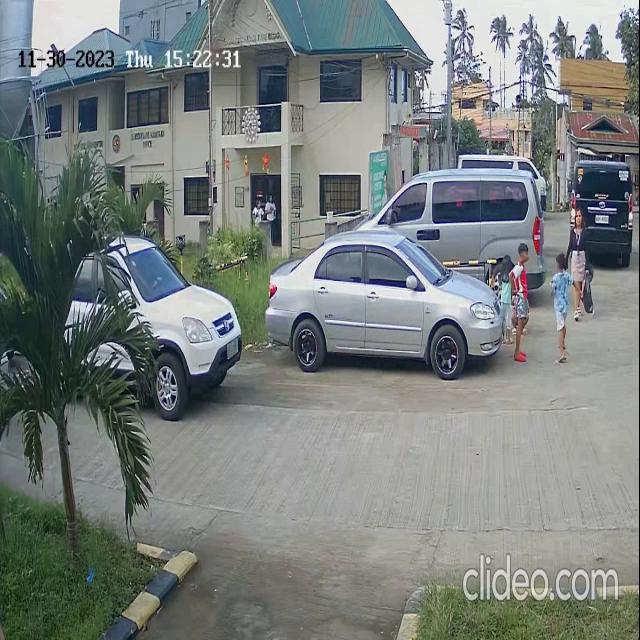person: (508, 242, 530, 364), (548, 253, 574, 352), (569, 208, 588, 279)
